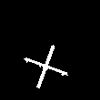single_crochet: (25, 45, 66, 87)
